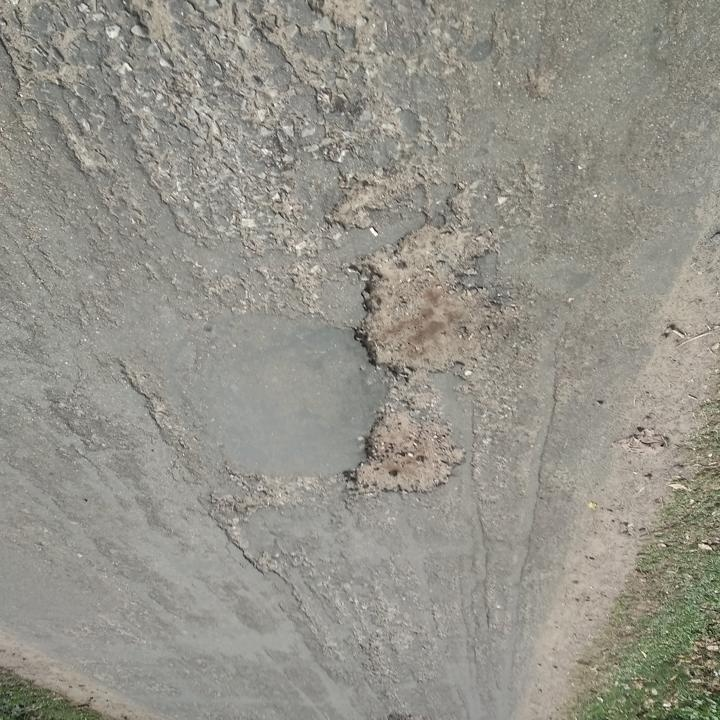pothole: (346, 214, 509, 380), (338, 392, 470, 503)
